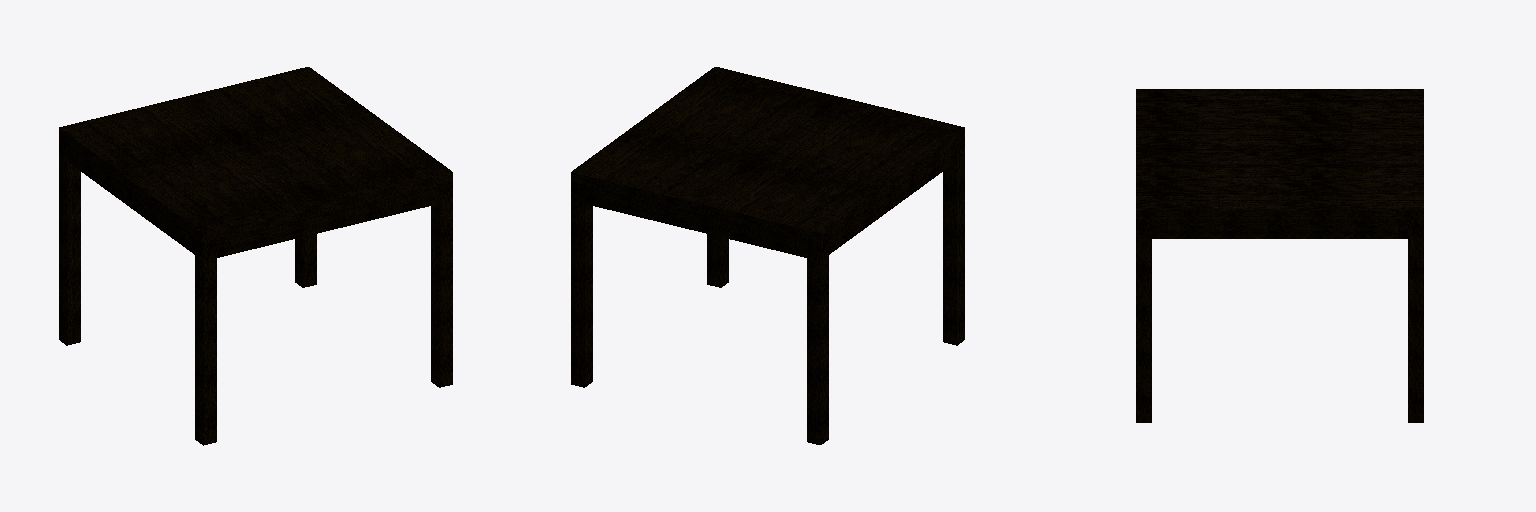
3 views of the same model, side by side, from view 1: azimuth 30°, elevation 25°; view 2: azimuth 150°, elevation 25°; view 3: azimuth 270°, elevation 25° (orthographic).
Parts seen in each view (by area): view 1: Mesh2 Group2 Bjursta_90x90_1 Model, Mesh6 Group6 Bjursta_90x90_1 Model, Mesh16 Group_75_2 Bjursta_90x90_1 Model, Mesh3 Group3 Bjursta_90x90_1 Model, Mesh4 Group4 Bjursta_90x90_1 Model, Mesh10 Group_76_1 Bjursta_90x90_1 Model, Mesh7 Group7 Group_77_1 Bjursta_90x90_1 Model, Mesh1 Group1 Bjursta_90x90_1 Model; view 2: Mesh2 Group2 Bjursta_90x90_1 Model, Mesh4 Group4 Bjursta_90x90_1 Model, Mesh15 Group_75_1 Bjursta_90x90_1 Model, Mesh1 Group1 Bjursta_90x90_1 Model, Mesh6 Group6 Bjursta_90x90_1 Model, Mesh10 Group_76_1 Bjursta_90x90_1 Model, Mesh7 Group7 Group_77_1 Bjursta_90x90_1 Model, Mesh3 Group3 Bjursta_90x90_1 Model; view 3: Mesh2 Group2 Bjursta_90x90_1 Model, Mesh11 Group_76_2 Bjursta_90x90_1 Model, Mesh1 Group1 Bjursta_90x90_1 Model, Mesh3 Group3 Bjursta_90x90_1 Model, Mesh12 Group8 Group_77_2 Bjursta_90x90_1 Model.
Boxes of the visible parts, <box> form: Mesh2 Group2 Bjursta_90x90_1 Model: <box>59,67,452,236</box>; Mesh6 Group6 Bjursta_90x90_1 Model: <box>195,236,216,445</box>; Mesh16 Group_75_2 Bjursta_90x90_1 Model: <box>217,184,438,257</box>; Mesh3 Group3 Bjursta_90x90_1 Model: <box>431,181,452,387</box>; Mesh4 Group4 Bjursta_90x90_1 Model: <box>59,137,80,345</box>; Mesh10 Group_76_1 Bjursta_90x90_1 Model: <box>68,143,194,254</box>; Mesh7 Group7 Group_77_1 Bjursta_90x90_1 Model: <box>59,132,311,241</box>; Mesh1 Group1 Bjursta_90x90_1 Model: <box>295,234,316,287</box>; Mesh2 Group2 Bjursta_90x90_1 Model: <box>571,67,964,237</box>; Mesh4 Group4 Bjursta_90x90_1 Model: <box>807,236,828,444</box>; Mesh15 Group_75_1 Bjursta_90x90_1 Model: <box>585,185,806,257</box>; Mesh1 Group1 Bjursta_90x90_1 Model: <box>571,181,592,387</box>; Mesh6 Group6 Bjursta_90x90_1 Model: <box>943,137,964,345</box>; Mesh10 Group_76_1 Bjursta_90x90_1 Model: <box>829,143,955,254</box>; Mesh7 Group7 Group_77_1 Bjursta_90x90_1 Model: <box>712,132,964,241</box>; Mesh3 Group3 Bjursta_90x90_1 Model: <box>707,234,728,287</box>; Mesh2 Group2 Bjursta_90x90_1 Model: <box>1136,89,1423,214</box>; Mesh11 Group_76_2 Bjursta_90x90_1 Model: <box>1152,220,1407,238</box>; Mesh1 Group1 Bjursta_90x90_1 Model: <box>1408,220,1423,422</box>; Mesh3 Group3 Bjursta_90x90_1 Model: <box>1136,220,1151,422</box>; Mesh12 Group8 Group_77_2 Bjursta_90x90_1 Model: <box>1136,215,1423,219</box>.
Size of the model in its own units: 35.43 by 28.75 by 35.44.
3 materials, 2 textured.